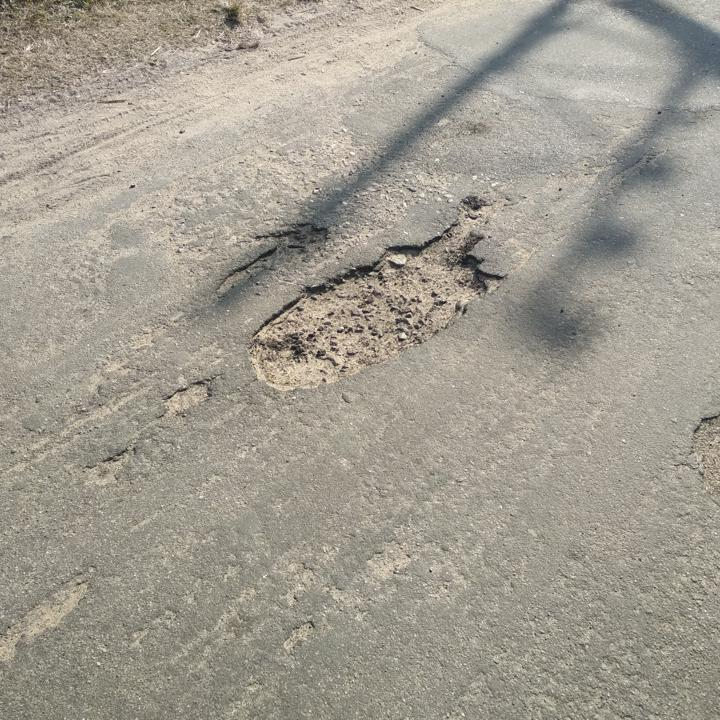pothole: (251, 191, 509, 397), (0, 562, 102, 662), (213, 219, 333, 301), (688, 411, 720, 500), (156, 376, 221, 419)
